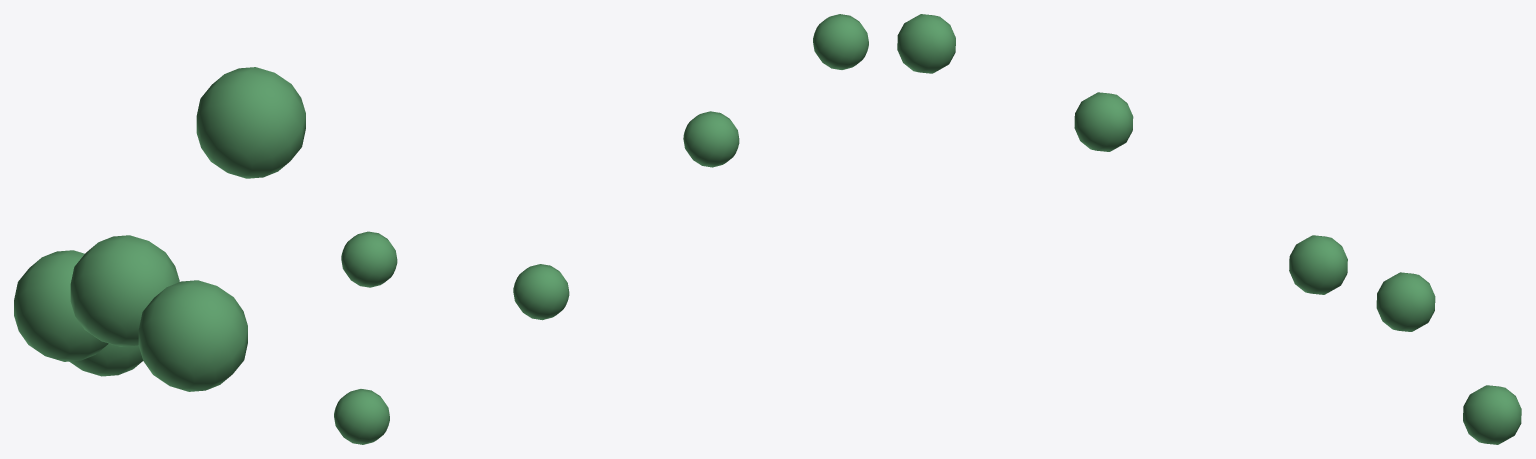
The picture shows the model from 3 angles, left to right: view 1: azimuth 30°, elevation 25°; view 2: azimuth 150°, elevation 25°; view 3: azimuth 270°, elevation 25°; orthographic projection. The views are drawn at different scales.
Visible parts, largest first — view 1: 右侧滑车上淋巴结; view 2: 右侧滑车上淋巴结; view 3: 右侧滑车上淋巴结.
Part boxes in pixels (left/top/right/bottom): 右侧滑车上淋巴结: left=14, top=67, right=305, bottom=391; 右侧滑车上淋巴结: left=334, top=14, right=868, bottom=444; 右侧滑车上淋巴结: left=897, top=14, right=1521, bottom=444.
Bounding box in the file's own units: 0.0235 × 0.0216 × 0.0392.
